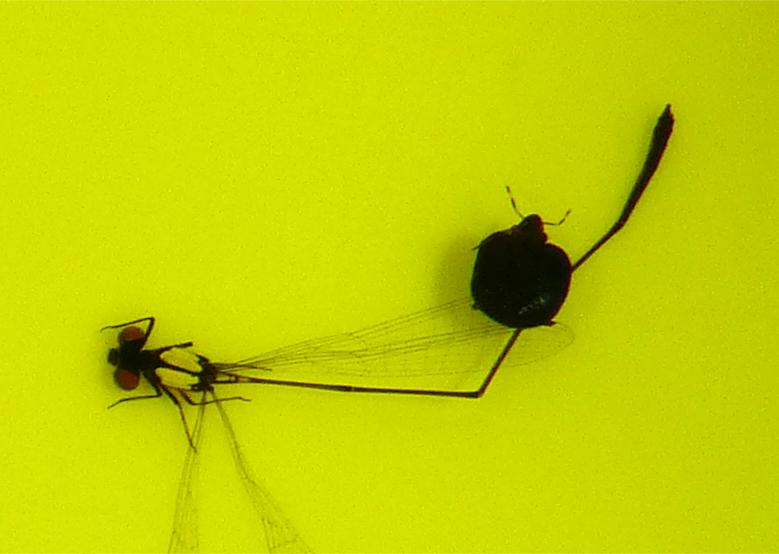Coleoptera: (468, 184, 574, 329)
Odonata: (100, 100, 679, 454)
